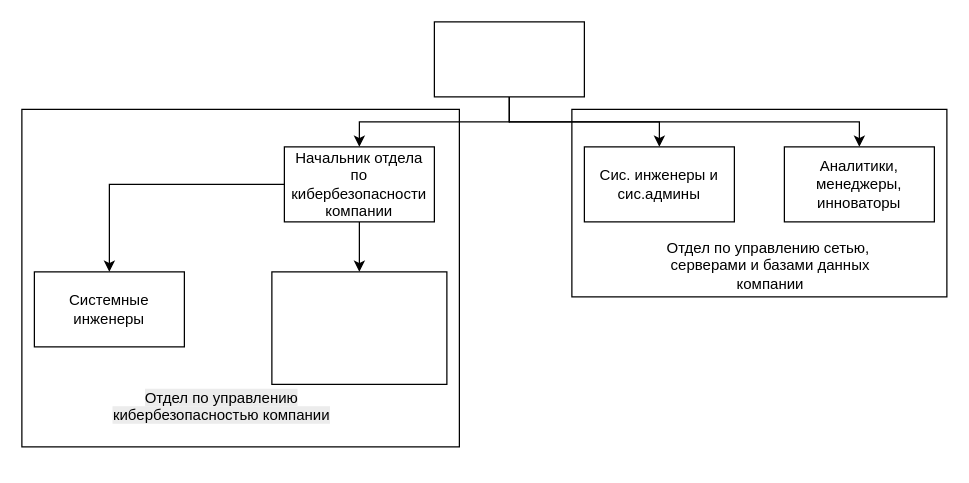
The diagram is 969 pixels wide and 483 high, and some of its shapes have lost their labels. The centre of each missing label's shape, as x and y in pixels:
"Начальник IT - отдела" goes at point 508,59.
"Системные администраторы, специализирующиеся на кибербезопасности серверов и КИС" goes at point 359,327.
